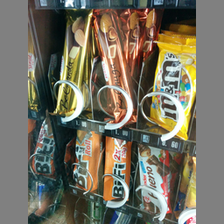chocolate: (89, 9, 136, 126), (151, 40, 195, 140), (53, 11, 86, 113), (138, 142, 172, 215), (104, 135, 131, 203), (73, 130, 99, 193)
